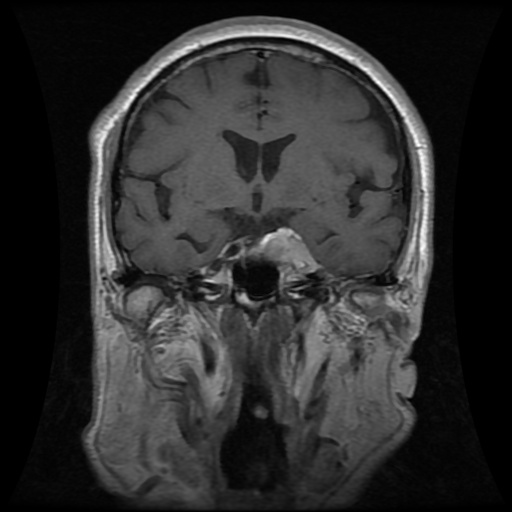meningioma: (249, 229, 317, 273)
